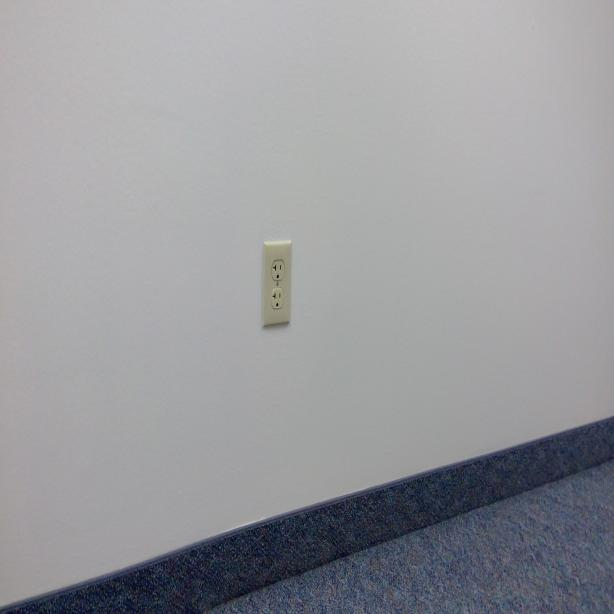typeb: (270, 290, 286, 312), (271, 261, 284, 284)
